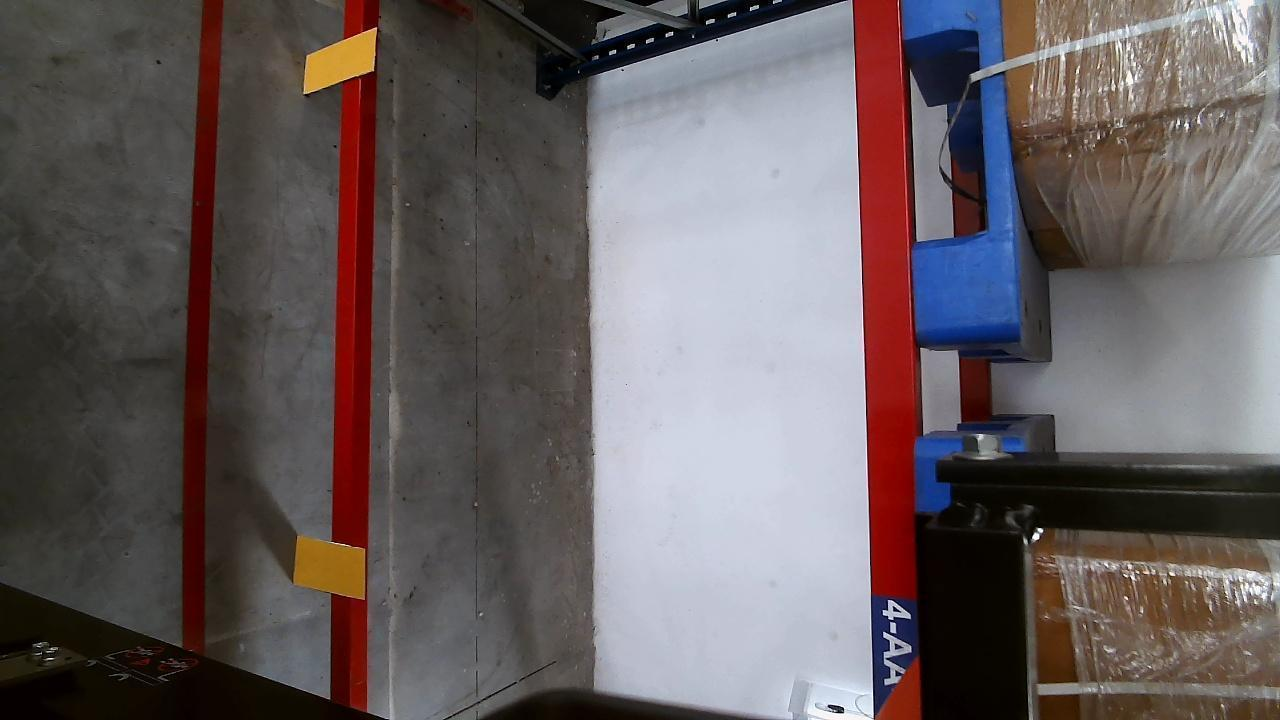red_line: (176, 0, 227, 652)
